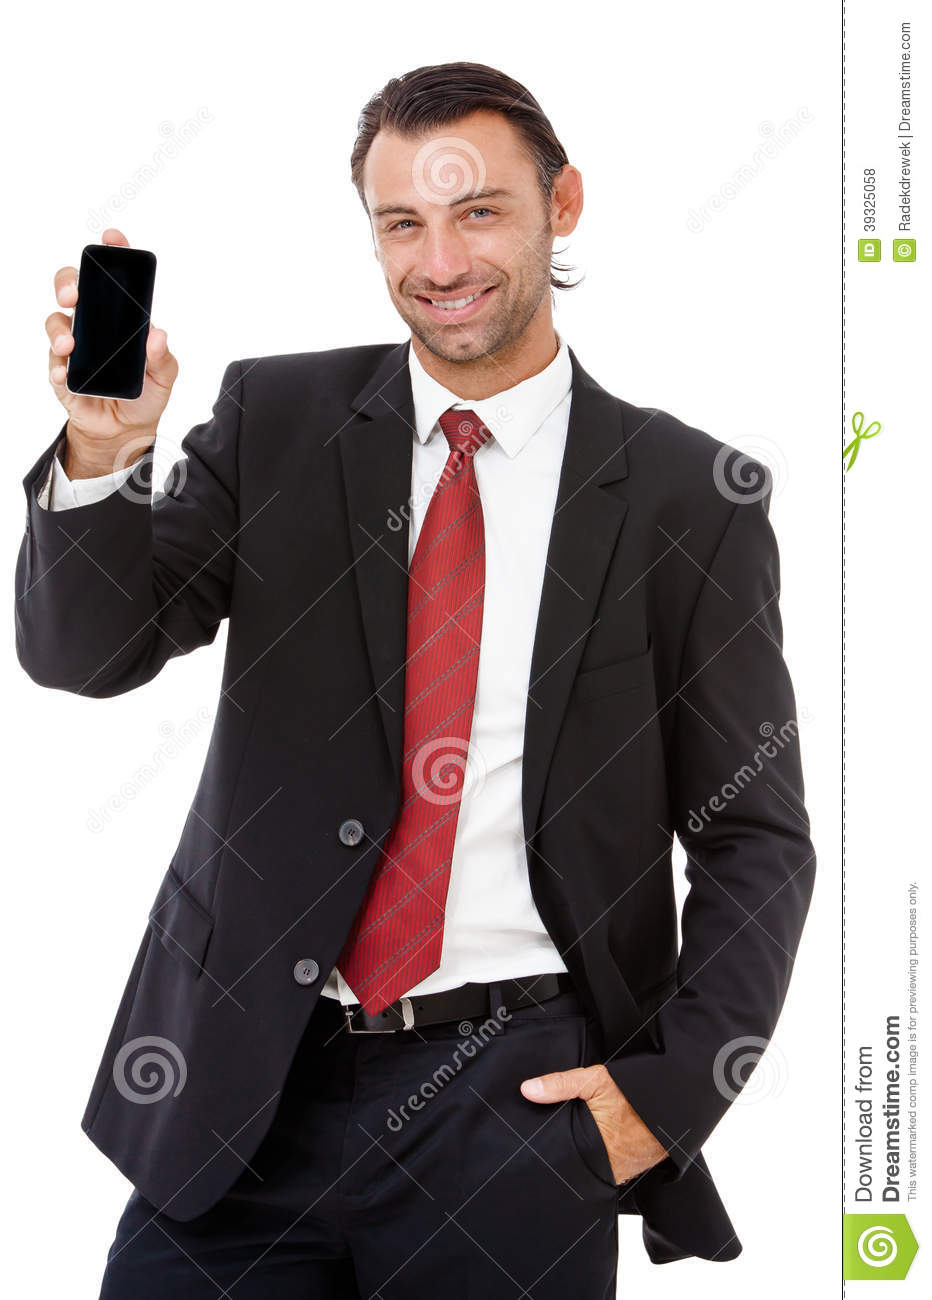phone: (67, 247, 155, 402)
